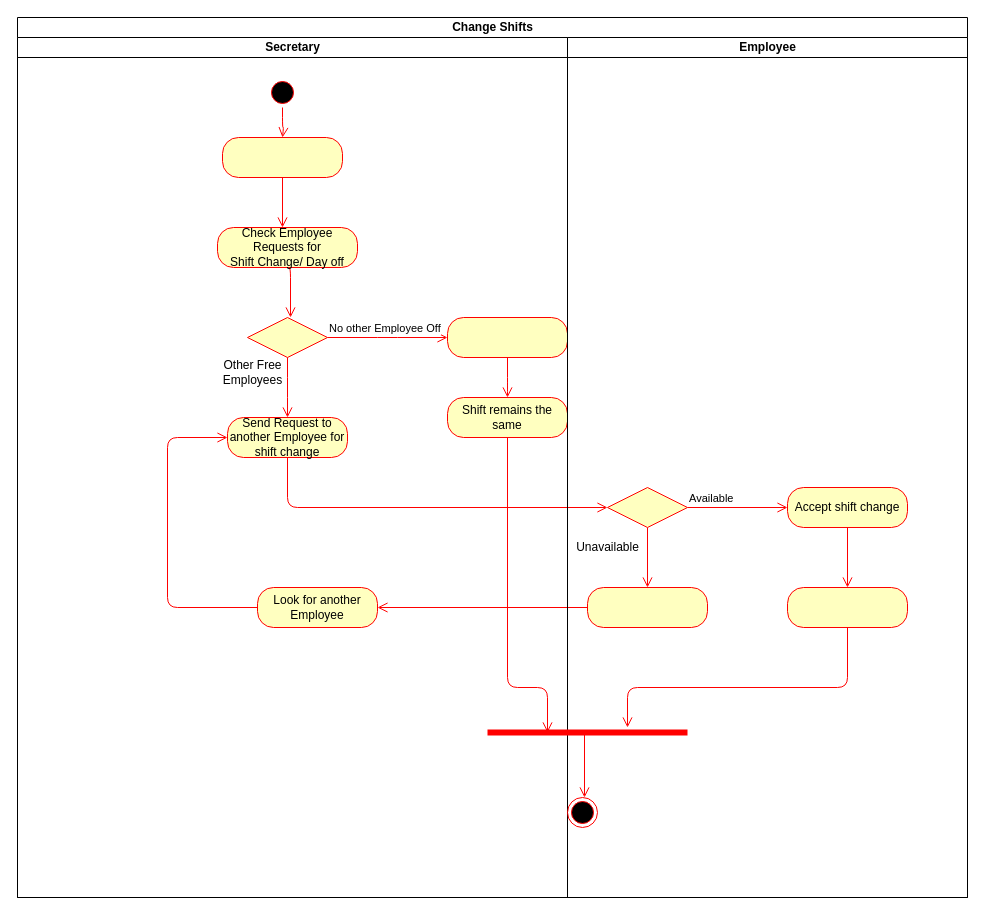
The diagram is 985 pixels wide and 915 high, and some of its shapes have lost their labels. The shapes that lost their labels are listed below. From the top down, each one's centre as x and y in pixels, then its label:
pixel 282 157: Go to Dashboard/ Employees Timetable
pixel 507 337: Reject Request for Shift Change
pixel 647 607: Reject shift change
pixel 847 607: Shift is Rescheduled
